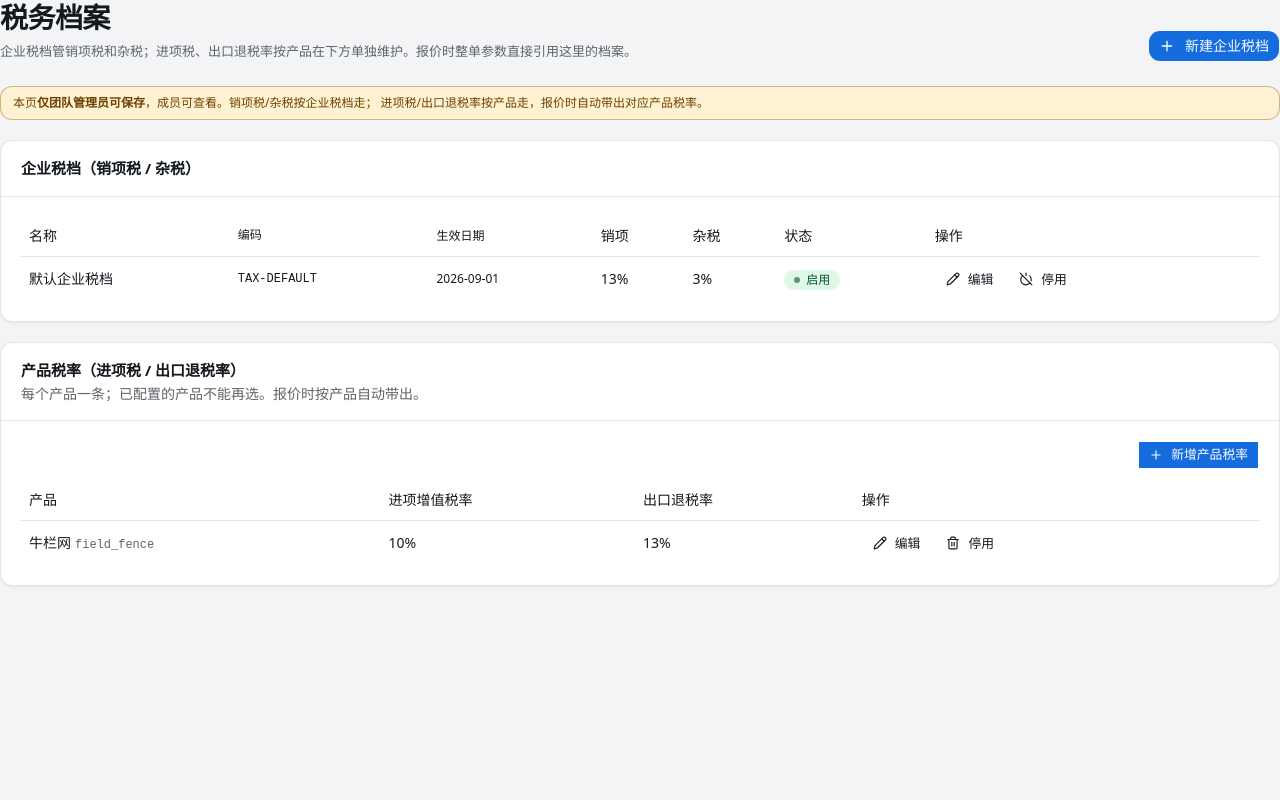
产品税率 · 停用二次确认 › 失败原因显示在弹窗里且弹窗不关
The width and height of the screenshot is (1280, 800).
Click the button "停用" in the row of "牛栏网".
click(970, 543)  # box [935,529,1005,557]
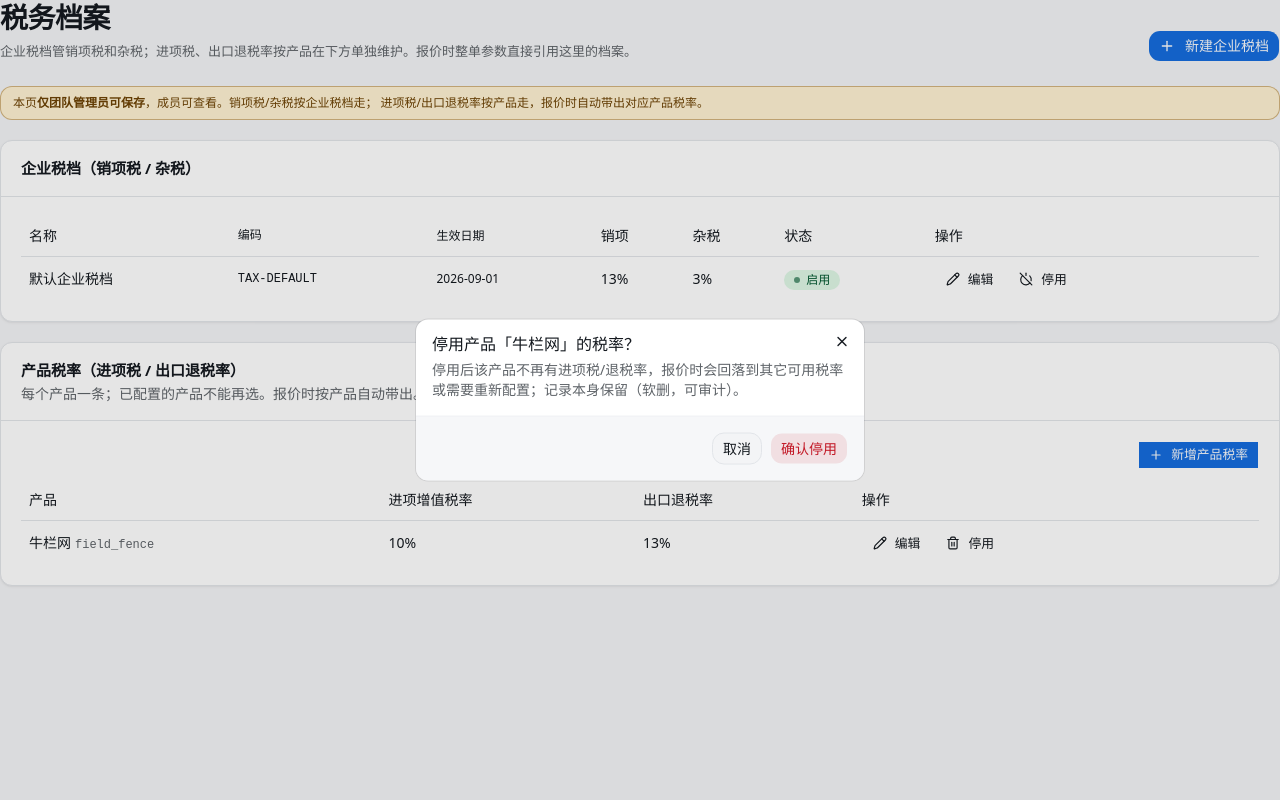
Click the button "确认停用".
click(809, 448)  # box [770,432,848,464]
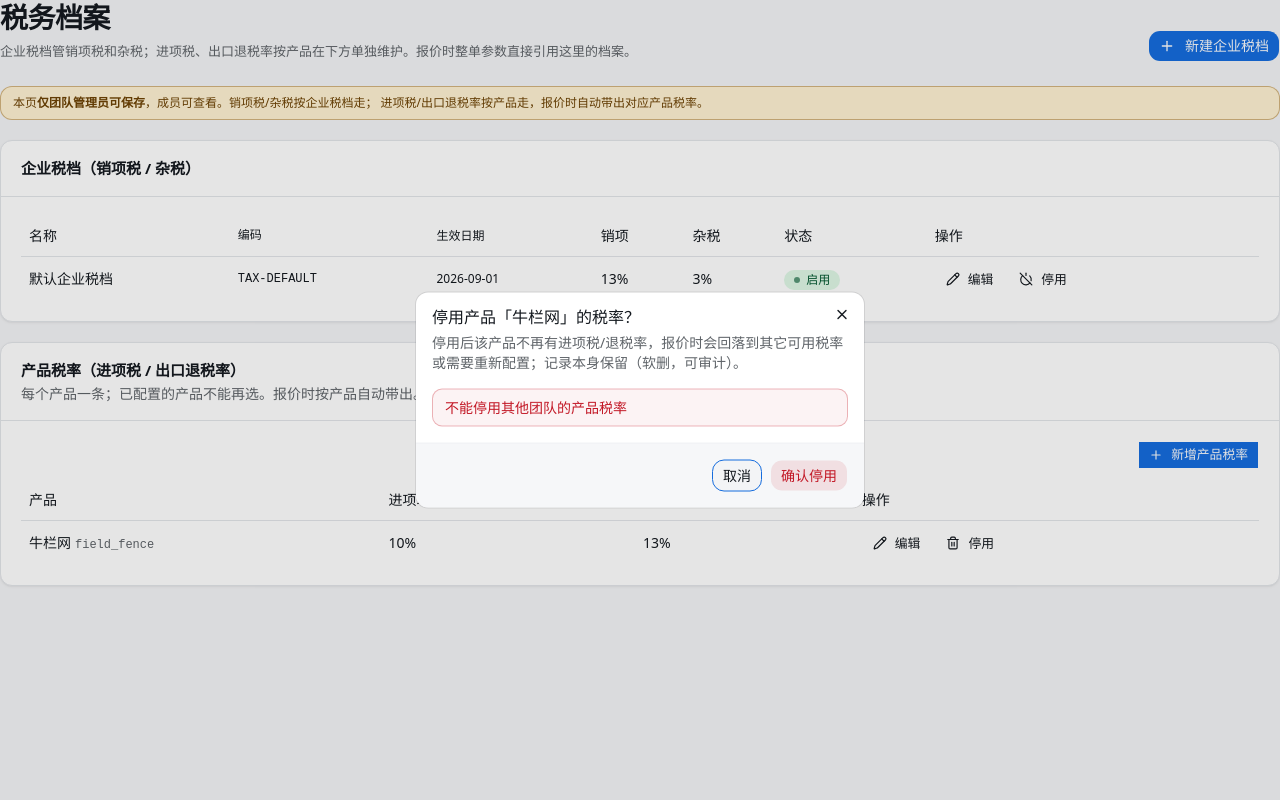
Expected: the text "确认停用" is shown, [770,460,848,492]
Expected: the message "不能停用其他团队的产品税率" is shown, [432,388,848,426]
